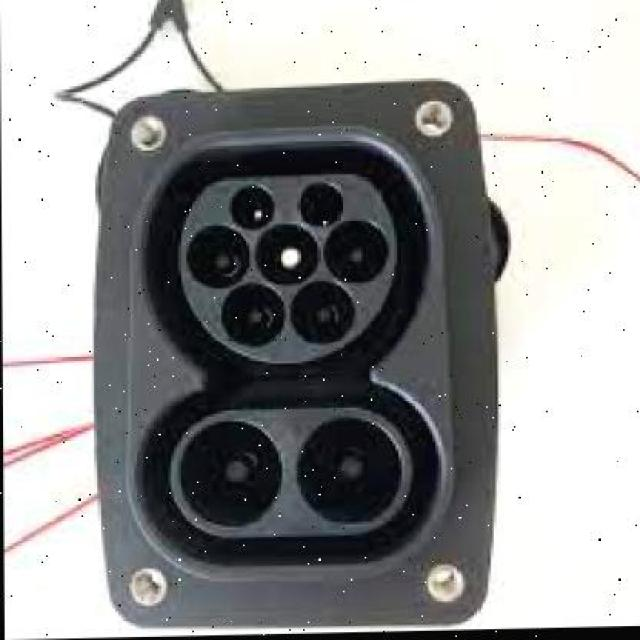CCS2: (101, 112, 508, 594)
